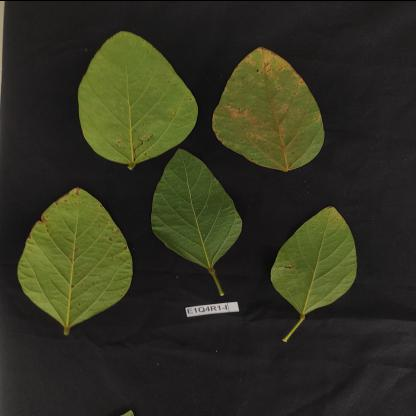label: (180, 302, 239, 328)
leaflets: (19, 180, 136, 380), (61, 20, 204, 170), (210, 36, 346, 172), (250, 200, 375, 324), (142, 136, 246, 272)
